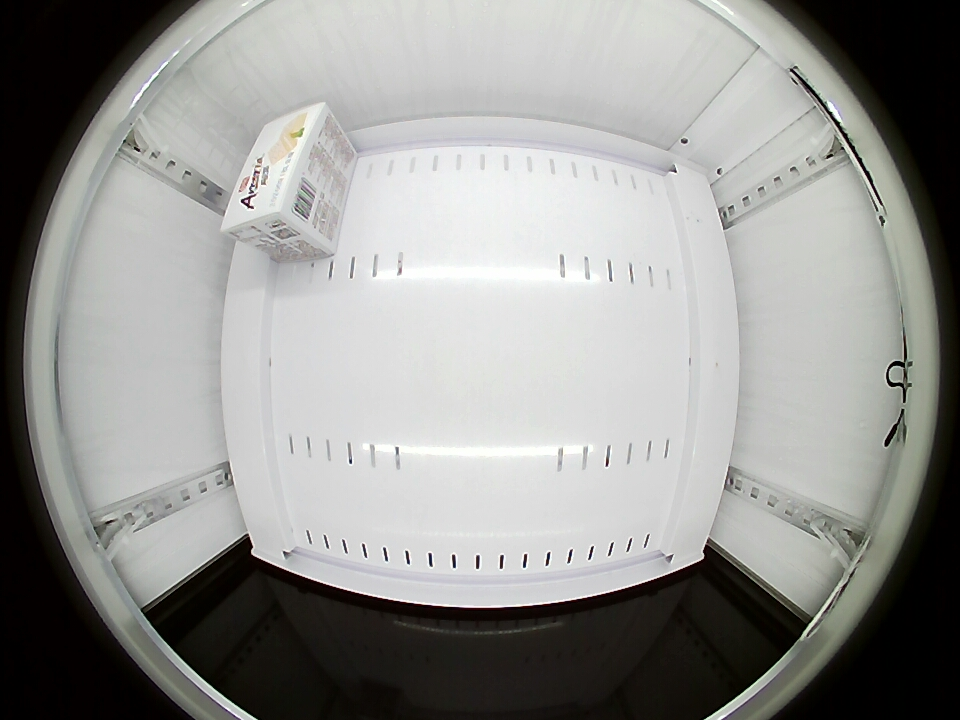meiniye: (220, 102, 335, 245)
